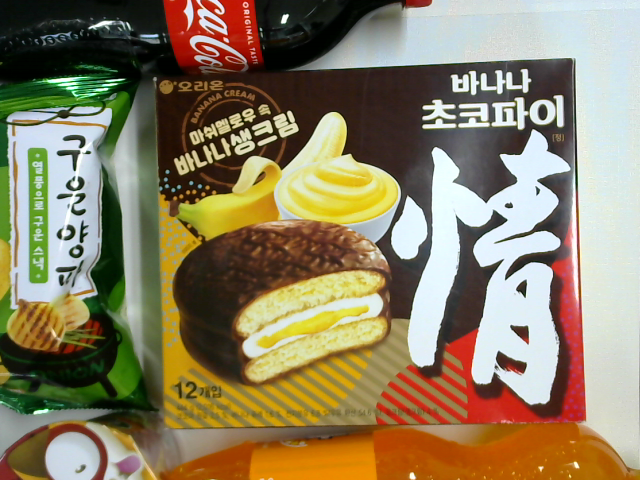Choco_Pie_Banana: (154, 56, 587, 431)
Coca_Cola_1.5L: (1, 1, 433, 84)
Grilled_Onions: (1, 52, 154, 415)
Hwanta_Orange_1.5L: (166, 423, 638, 480)
Raccoon: (1, 410, 184, 480)
